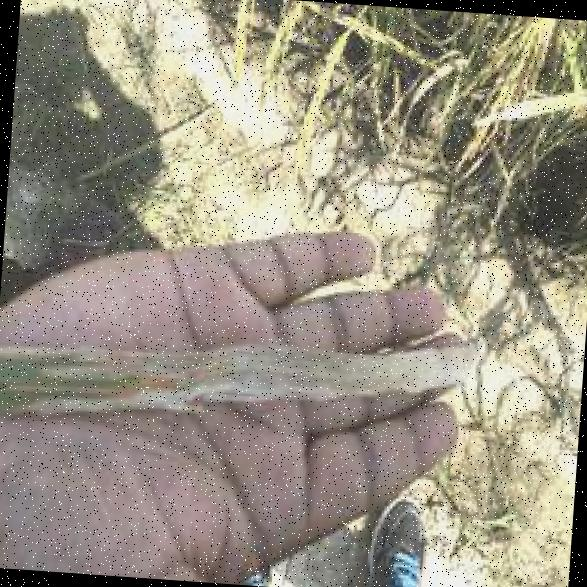Bacteria_Leaf_Blight: (123, 314, 495, 428)
